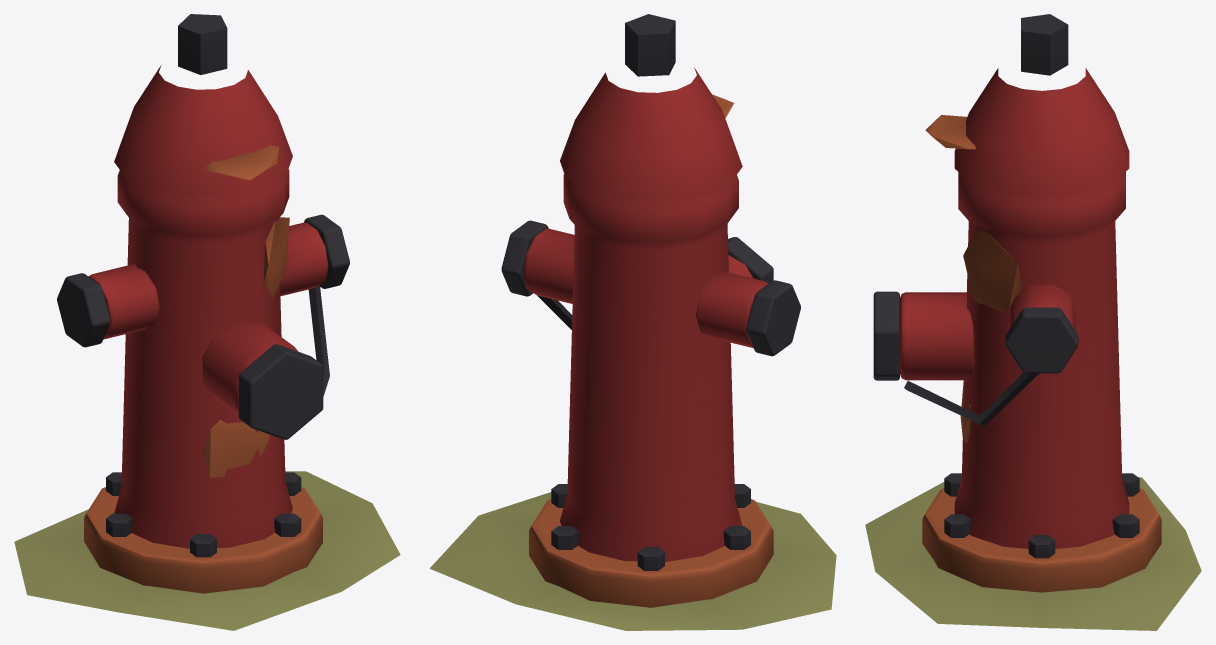
The model's file is env_hydrant.glb.
3 renders of one model, left to right at view 1: azimuth 30°, elevation 25°; view 2: azimuth 150°, elevation 25°; view 3: azimuth 270°, elevation 25°, orthographic. The views are drawn at different scales.
Visible parts, largest first — view 1: env_hydrant; view 2: env_hydrant; view 3: env_hydrant.
Boxes of the visible parts, x1,y1,x2,y2 form: env_hydrant: (14,14,400,630); env_hydrant: (430,14,836,630); env_hydrant: (865,14,1201,630).
Size of the model in its own units: 0.5335 by 0.78 by 0.4501.
